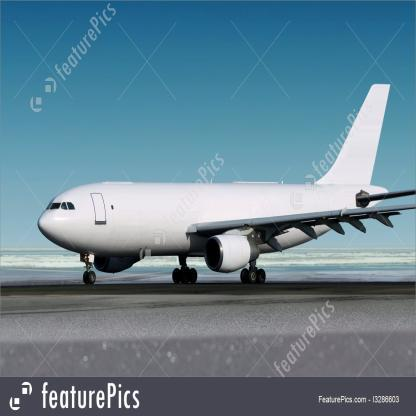CIV_Plane: (36, 82, 416, 288)
